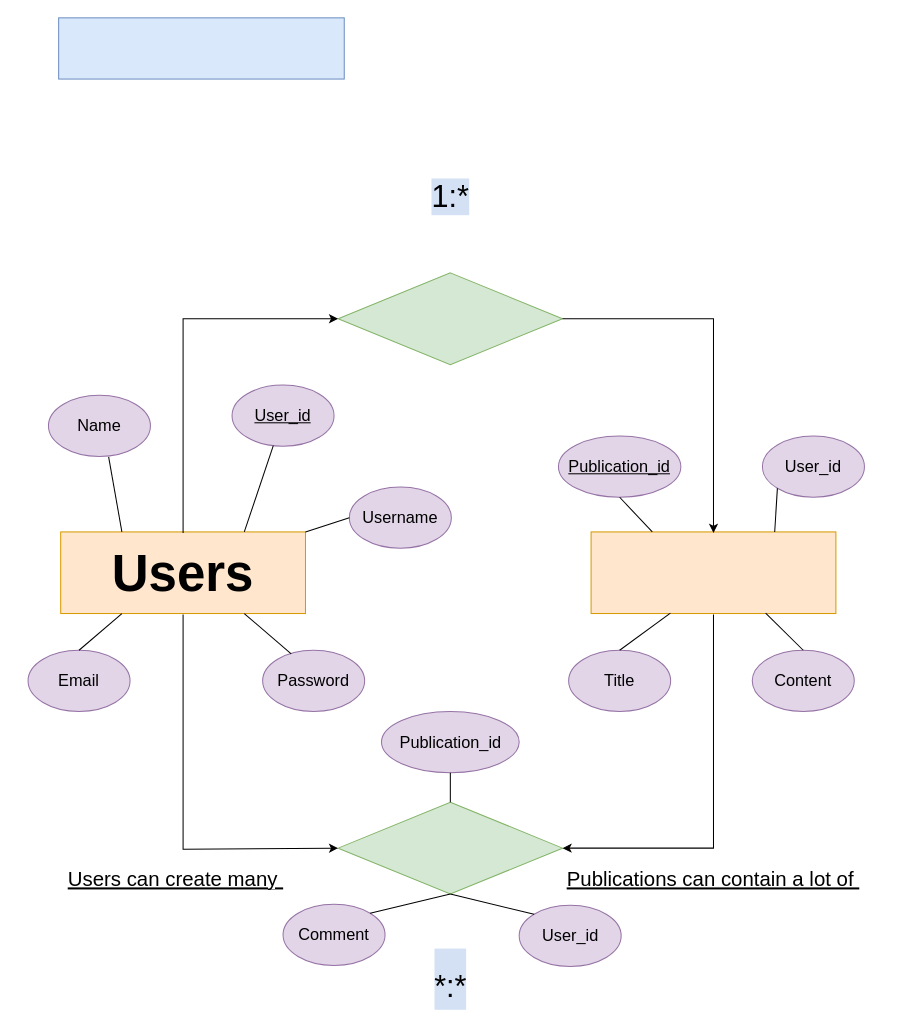
Image size: 899x1027. Some labels were removed from this diagram. The shapes that lost their labels are listed below. From the top down, each one's centre as x and y in pixels, then its label:
At point 201,48: "BLOG".
At point 450,318: "Make".
At point 713,572: "Publications".
At point 450,847: "Comments".
